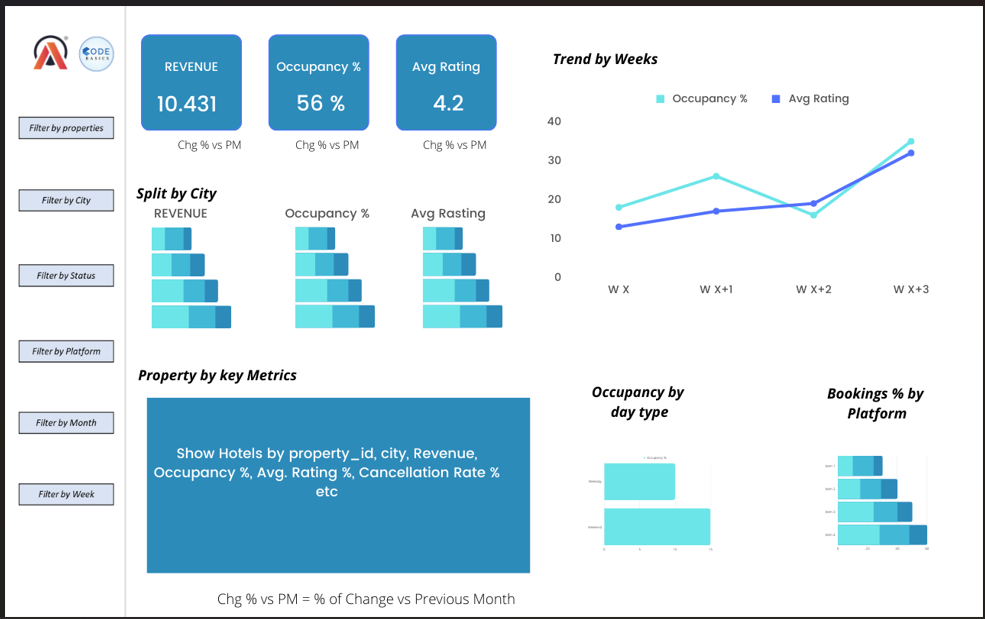

This screenshot's page, from the dashboard's own definition file:
{"tool":"powerbi","page":{"name":"Executive View","canvas":[1920,1100],"ordinal":1},"visuals":[{"type":"shape","box":[0,92,408,1008],"z":0},{"type":"textbox","box":[0,0,1920,96],"z":1000},{"type":"slicer","title":"Filter by City","fields":{"Values":["dim_hotels.city"]},"box":[24,552,288,72],"z":2000},{"type":"slicer","title":"Filter by Booking Status","fields":{"Values":["fact_bookings.booking_status"]},"box":[24,648,288,72],"z":3000},{"type":"slicer","title":"Filter by Booking Platform","fields":{"Values":["fact_bookings.booking_platform"]},"box":[24,744,288,72],"z":4000},{"type":"slicer","fields":{"Values":["dim_date.mmm yyyy"]},"box":[24,144,312,96],"z":5000},{"type":"slicer","fields":{"Values":["dim_date.week no"]},"box":[24,264,360,264],"z":6000},{"type":"image","box":[0,0,120,96],"z":7000},{"type":"image","box":[1800,0,120,96],"z":8000},{"type":"textbox","box":[120,0,288,96],"z":9000},{"type":"actionButton","box":[600,0,240,96],"z":10000},{"type":"actionButton","box":[864,0,264,96],"z":11000},{"type":"actionButton","box":[1152,0,264,96],"z":12000},{"type":"textbox","box":[72,96,168,72],"z":13000},{"type":"cardVisual","fields":{"Data":["DAX Measures.Revenue"]},"box":[432,72,216,216],"z":14000},{"type":"cardVisual","fields":{"Data":["DAX Measures.Occupancy %"]},"box":[624,72,264,216],"z":15000},{"type":"cardVisual","fields":{"Data":["DAX Measures.Realisation %"]},"box":[624,216,264,216],"z":16000},{"type":"cardVisual","fields":{"Data":["DAX Measures.ADR"]},"box":[864,216,240,216],"z":17000},{"type":"cardVisual","fields":{"Data":["DAX Measures.RevPAR"]},"box":[432,216,216,216],"z":18000},{"type":"cardVisual","fields":{"Data":["DAX Measures.DSRN"]},"box":[864,72,240,216],"z":19000},{"type":"lineChart","fields":{"Category":["dim_date.week no"],"Y":["DAX Measures.Average Rating"],"Y2":["DAX Measures.Occupancy %"]},"box":[1104,120,528,264],"z":20000},{"type":"donutChart","fields":{"Y":["DAX Measures.Occupancy %"],"Category":["dim_date.Day Type"]},"box":[1656,120,216,264],"z":21000},{"type":"columnChart","fields":{"Category":["dim_hotels.city"],"Y":["DAX Measures.Average Rating"]},"box":[432,408,432,288],"z":22000},{"type":"tableEx","title":"Property By Key Metrics","fields":{"Values":["dim_hotels.property_name","dim_hotels.city","DAX Measures.Total Bookings","DAX Measures.Revenue","DAX Measures.Occupancy %","DAX Measures.Cancellation %","DAX Measures.Realisation %","DAX Measures.DBRN","DAX Measures.DSRN","DAX Measures.DURN","DAX Measures.Average Rating"]},"box":[888,408,1032,672],"z":23000},{"type":"textbox","box":[24,840,312,240],"z":24000},{"type":"clusteredBarChart","fields":{"Category":["dim_hotels.city"],"Y":["DAX Measures.Occupancy %"]},"box":[432,720,432,336],"z":25000}]}

Visuals, with their boxes on the page's 1920x1100 design canvas (x1, y1, x2, y2). These are canvas units, not pixel positions in the 985x619 screenshot, which may show the page scaled, cropped or inside an application window:
shape: detection(0, 92, 408, 1100)
textbox: detection(0, 0, 1920, 96)
"Filter by City" slicer: detection(24, 552, 312, 624)
"Filter by Booking Status" slicer: detection(24, 648, 312, 720)
"Filter by Booking Platform" slicer: detection(24, 744, 312, 816)
slicer - dim_date.mmm yyyy: detection(24, 144, 336, 240)
slicer - dim_date.week no: detection(24, 264, 384, 528)
image: detection(0, 0, 120, 96)
image: detection(1800, 0, 1920, 96)
textbox: detection(120, 0, 408, 96)
actionButton: detection(600, 0, 840, 96)
actionButton: detection(864, 0, 1128, 96)
actionButton: detection(1152, 0, 1416, 96)
textbox: detection(72, 96, 240, 168)
cardVisual - DAX Measures.Revenue: detection(432, 72, 648, 288)
cardVisual - DAX Measures.Occupancy %: detection(624, 72, 888, 288)
cardVisual - DAX Measures.Realisation %: detection(624, 216, 888, 432)
cardVisual - DAX Measures.ADR: detection(864, 216, 1104, 432)
cardVisual - DAX Measures.RevPAR: detection(432, 216, 648, 432)
cardVisual - DAX Measures.DSRN: detection(864, 72, 1104, 288)
lineChart - dim_date.week no x DAX Measures.Average Rating: detection(1104, 120, 1632, 384)
donutChart - DAX Measures.Occupancy % x dim_date.Day Type: detection(1656, 120, 1872, 384)
columnChart - dim_hotels.city x DAX Measures.Average Rating: detection(432, 408, 864, 696)
"Property By Key Metrics" tableEx: detection(888, 408, 1920, 1080)
textbox: detection(24, 840, 336, 1080)
clusteredBarChart - dim_hotels.city x DAX Measures.Occupancy %: detection(432, 720, 864, 1056)
